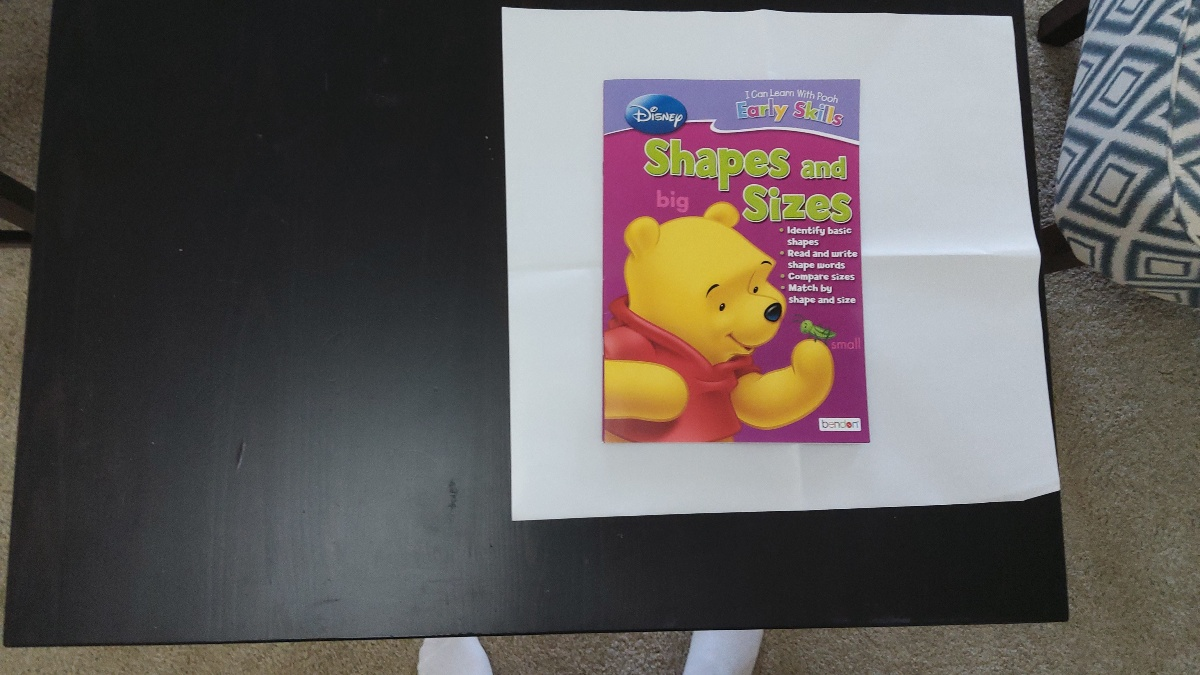book: (609, 82, 866, 444)
